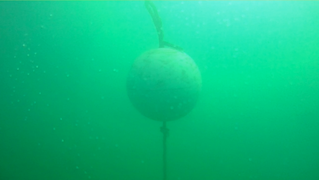buoy: (125, 47, 201, 122)
